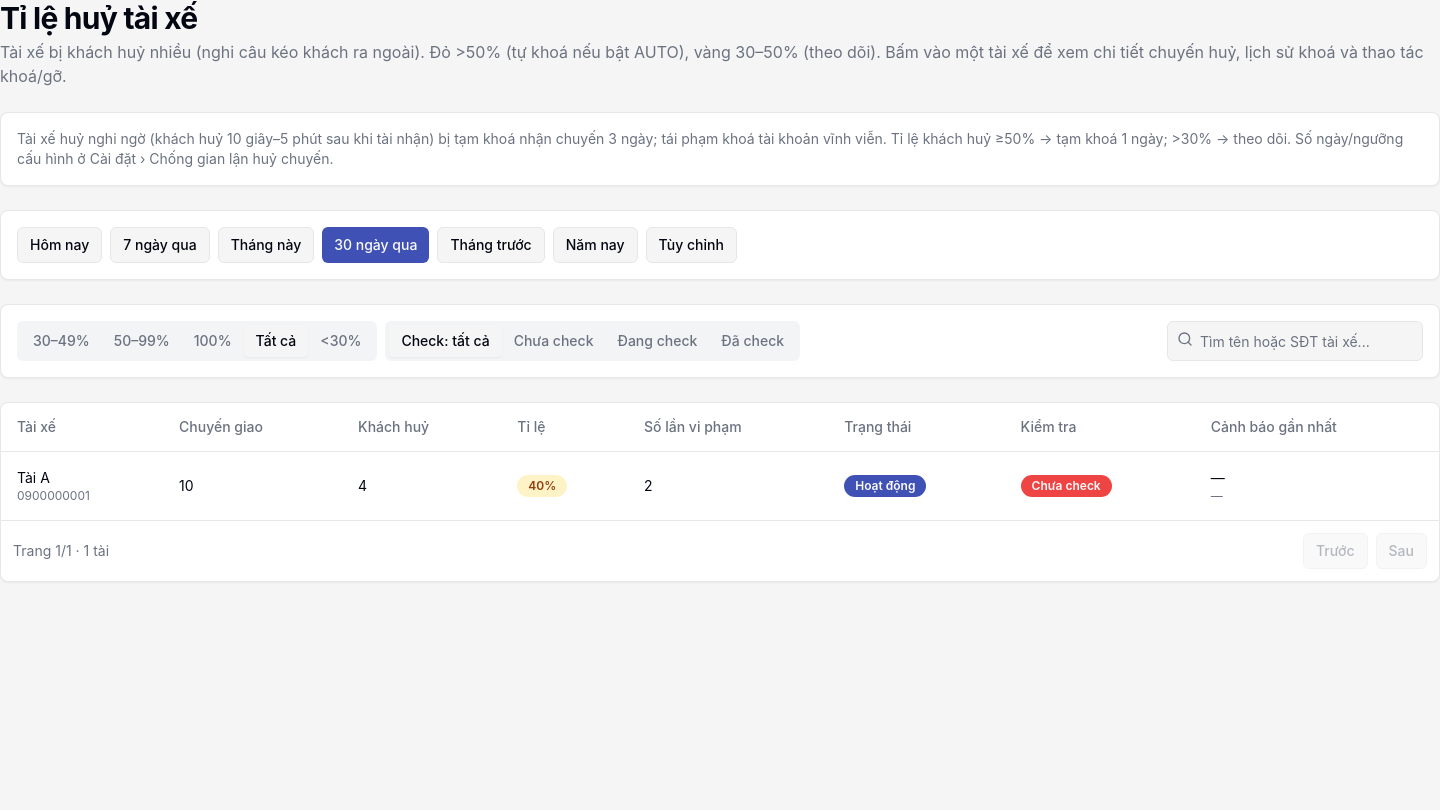
Test: DriverCancelReviewPage — sheet re-sync after action › updates the open sheet (status badge + Gỡ khoá button) after a ban succeeds, without closing it
Expected: the text "Tài A" is shown, [17,468,50,486]
# Open the row's detail sheet.
Click the text "Tài A" at (82, 485), box [1,451,163,520]
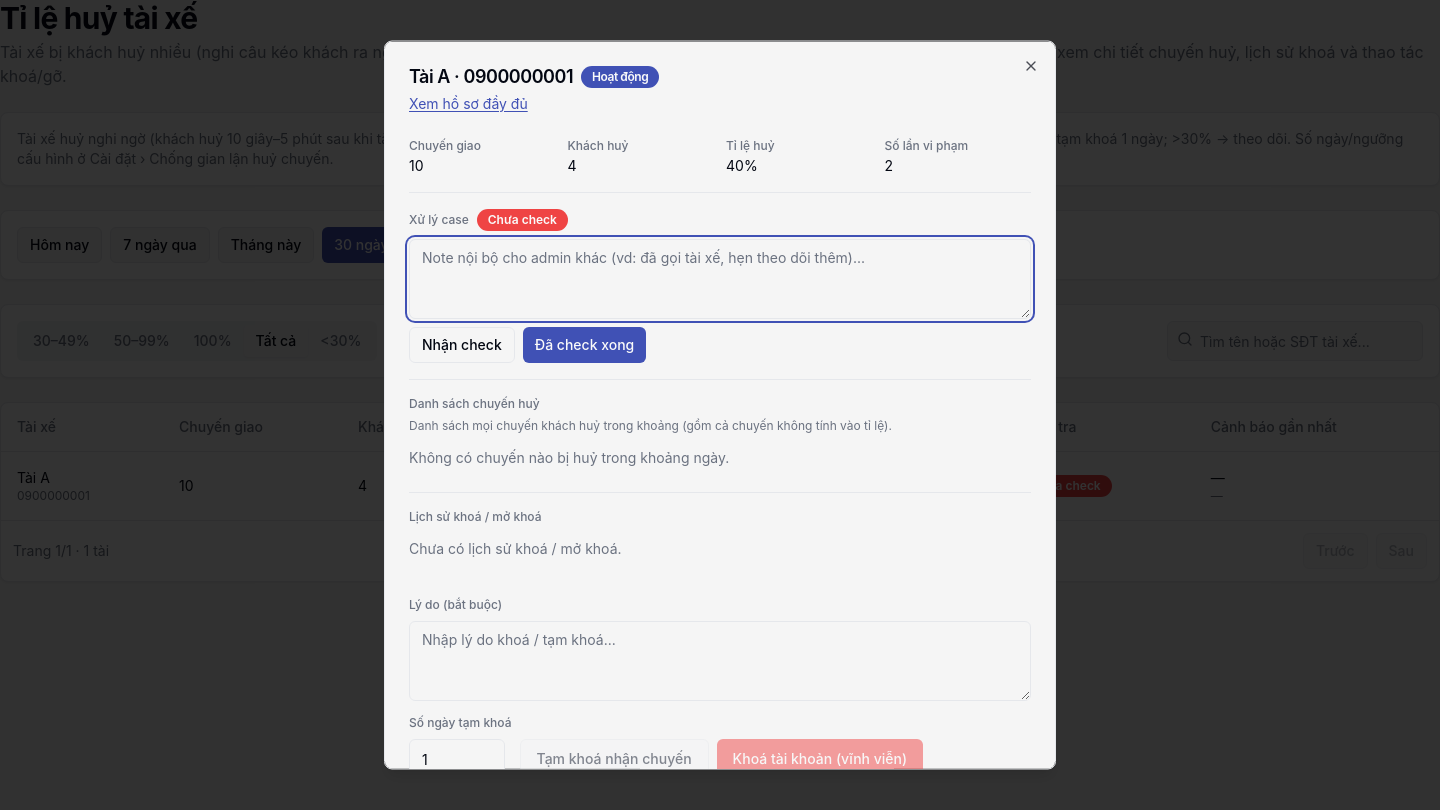
Expected: the button "Gỡ khoá" is not shown
Type "Câu kéo khách" into the text box with placeholder "Nhập lý do khoá / tạm khoá..." at (720, 660), box [409,620,1031,700]
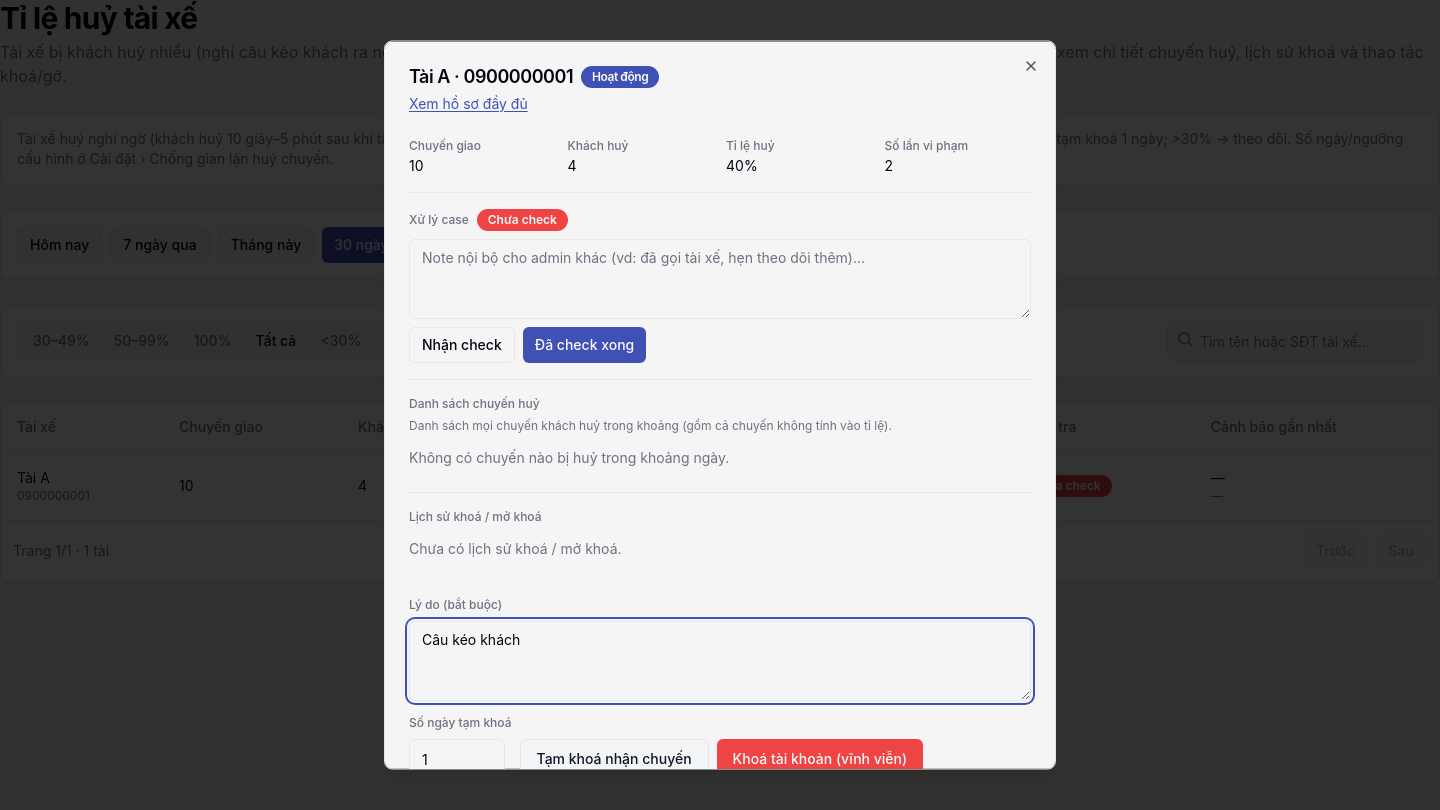
Click the button "Khoá tài khoản (vĩnh viễn)" at (820, 758), box [717,738,923,778]
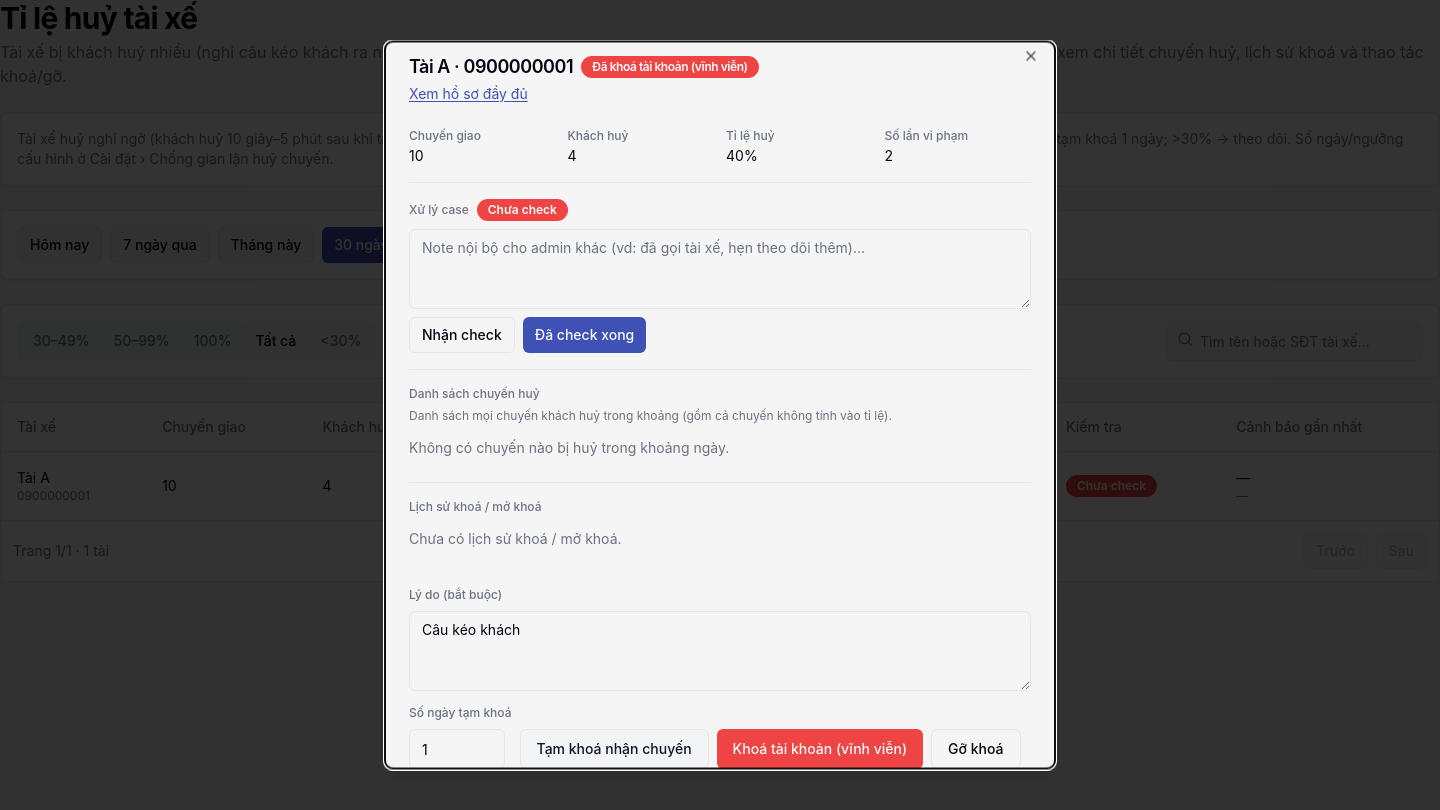
Expected: the button "Gỡ khoá" is shown, [931,728,1020,768]
Expected: the text "Đã khoá tài khoản (vĩnh viễn)" is shown, [581,56,759,78]
